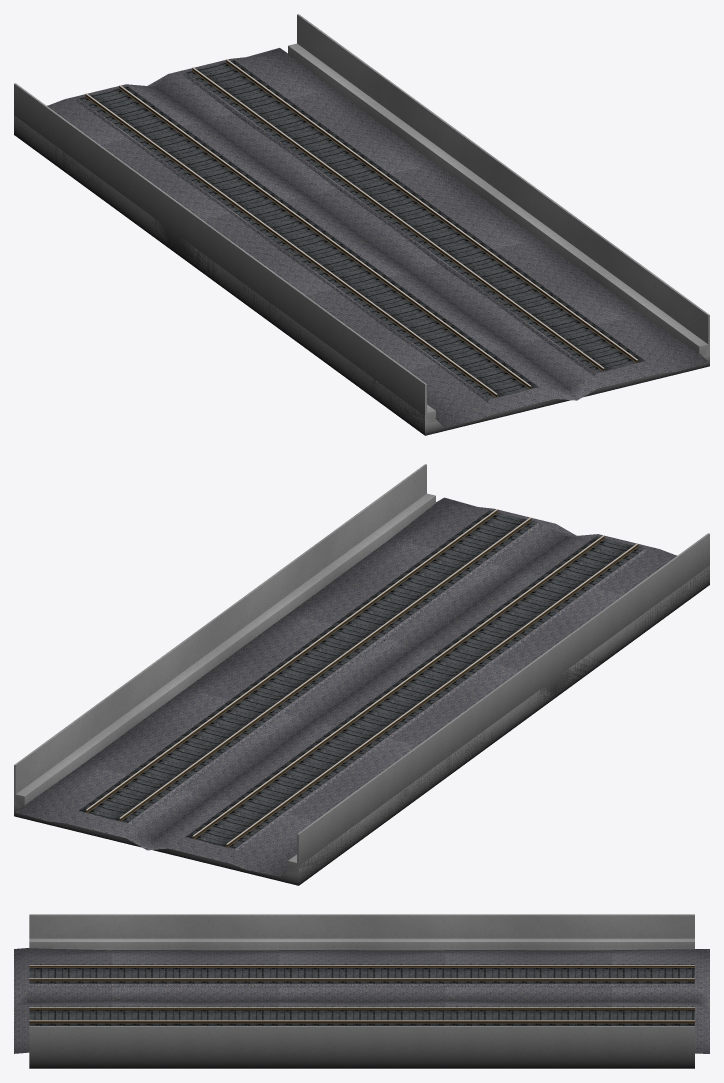
File: 2RAIL_KONKURI_KYO_100.glb
3 renders of one model, top to bottom at view 1: azimuth 30°, elevation 25°; view 2: azimuth 150°, elevation 25°; view 3: azimuth 270°, elevation 25°, orthographic. The views are drawn at different scales.
Visible parts, largest first — view 1: frame00; view 2: frame00; view 3: frame00.
Part boxes in pixels (box(x1,y1,x2,y2)): frame00: box(14, 14, 709, 435); frame00: box(14, 464, 709, 885); frame00: box(14, 914, 709, 1068).
Bounding box in the file's own units: 40 × 6.88 × 105.
Materials: 4 (3 with a texture image).
